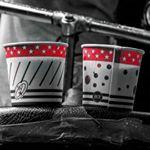cups: (79, 40, 146, 122), (1, 40, 71, 115)
